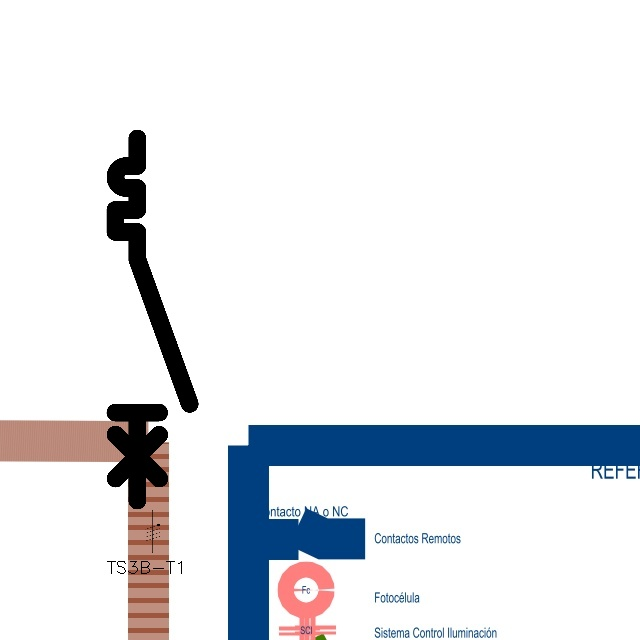interruptor_termomagnetico: (106, 129, 199, 509)
